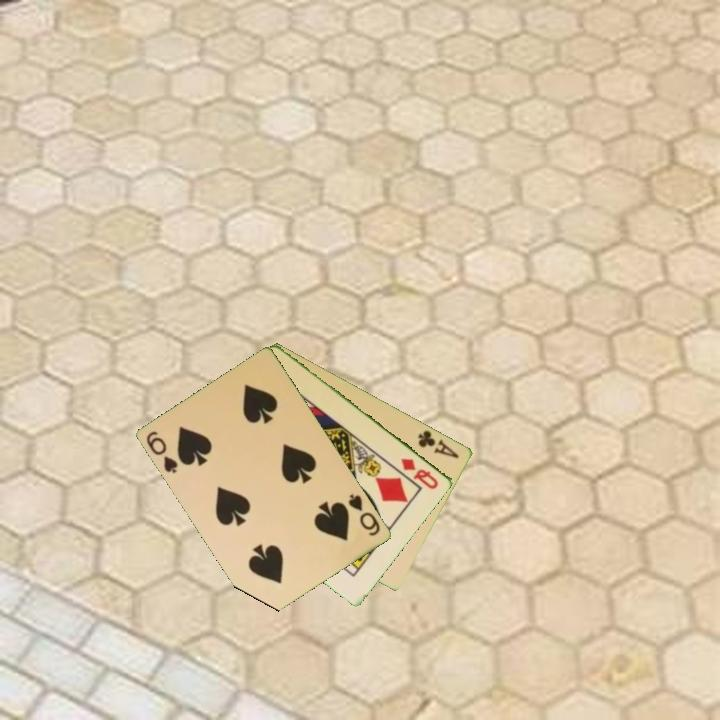6s: (345, 490, 383, 539), (143, 427, 181, 476)
Ac: (414, 426, 462, 461)
Qd: (398, 454, 442, 492)
